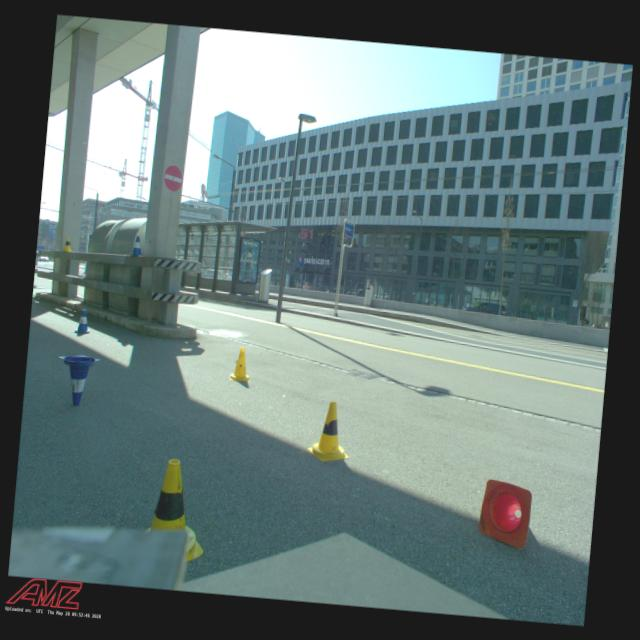blue_cone: (54, 352, 100, 408), (71, 308, 94, 334), (130, 236, 144, 256)
orange_cone: (476, 478, 534, 549)
yellow_cone: (142, 457, 210, 565), (306, 400, 354, 464), (228, 346, 252, 381), (62, 236, 73, 252)
